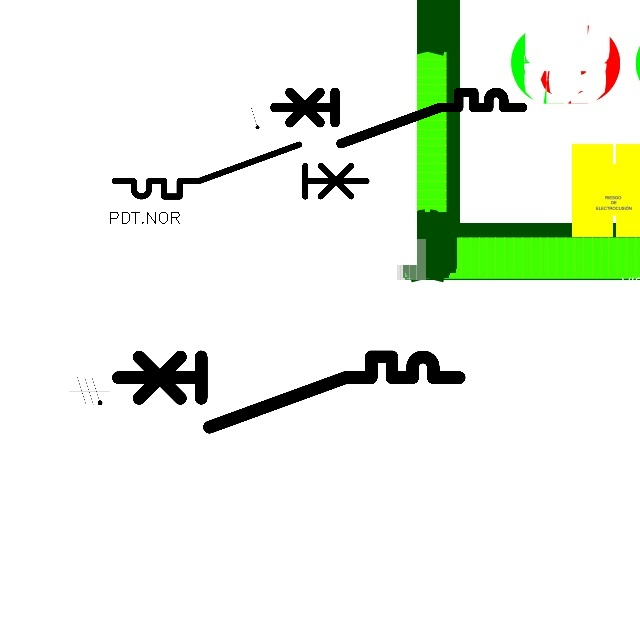interruptor_termomagnetico: (109, 348, 468, 435), (108, 138, 373, 203), (268, 86, 528, 149)
